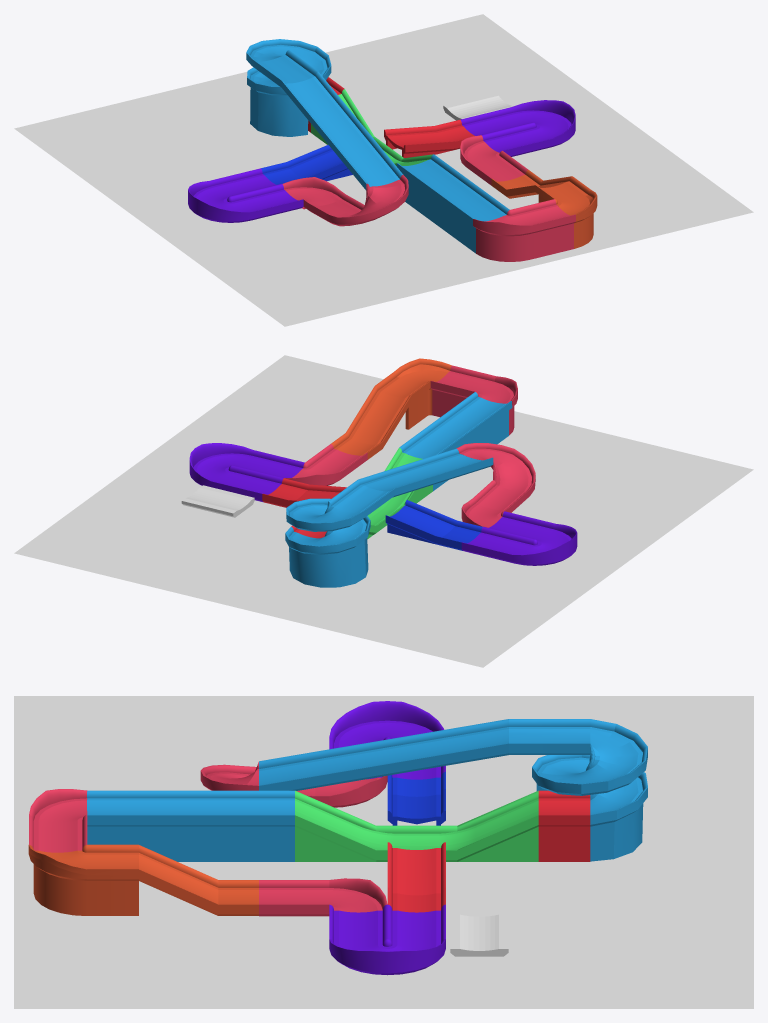
File: Mapav1.glb
The picture shows the model from 3 angles, top to bottom: view 1: azimuth 30°, elevation 25°; view 2: azimuth 150°, elevation 25°; view 3: azimuth 270°, elevation 25°; orthographic projection. The views are drawn at different scales.
Visible parts, largest first — view 1: Plane, Espiral, U, Curba, Linea, Curba.001, Subida.2dopiso, Rampas salto.001, Rampas salto, ORIGINAL, Bajada/Subida; view 2: Plane, Espiral, U, Curba, Subida.2dopiso, Linea, Curba.001, Rampas salto, ORIGINAL, Bajada/Subida, Rampas salto.001; view 3: Plane, Espiral, Linea, Subida.2dopiso, Bajada/Subida, U, Curba, Rampas salto.001, union, Curba.001, Rampas salto, ORIGINAL.
Boxes of the visible parts, x1,y1,x2,y2 form: Plane: (14,14,753,326); Espiral: (246,39,402,190); U: (188,100,575,222); Curba: (282,135,528,226); Linea: (397,154,509,253); Curba.001: (473,199,575,261); Subida.2dopiso: (491,170,597,248); Rampas salto.001: (384,120,479,157); Rampas salto: (261,144,352,184); ORIGINAL: (443,93,512,120); Bajada/Subida: (311,89,432,166); Plane: (14,355,753,667); Espiral: (285,448,493,587); U: (189,443,577,565); Curba: (284,443,535,527); Subida.2dopiso: (331,358,451,459); Linea: (399,392,512,491); Curba.001: (430,365,517,435); Rampas salto: (385,500,482,550); ORIGINAL: (181,485,254,517); Bajada/Subida: (367,447,432,539); Rampas salto.001: (262,478,346,507); Plane: (14,696,753,1008); Espiral: (259,719,647,861); Linea: (87,790,294,861); Subida.2dopiso: (28,844,258,915); Bajada/Subida: (295,790,538,861); U: (329,701,445,975); Curba: (200,762,387,916); Rampas salto.001: (387,842,445,912); union: (538,790,590,861); Curba.001: (29,789,87,852); Rampas salto: (387,771,445,825); ORIGINAL: (450,914,508,956).
Bounding box in the file's own units: 57.21 × 10.26 × 57.21.
